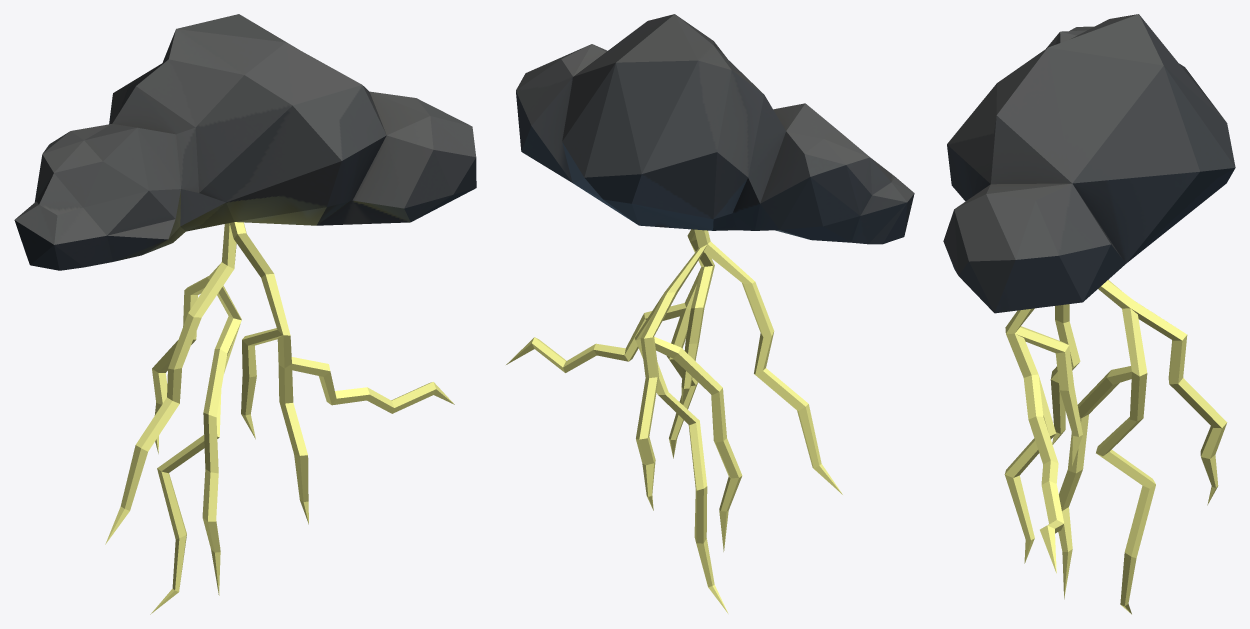
Rendered from Lightning bolt.glb.
The picture shows the model from 3 angles, left to right: view 1: azimuth 30°, elevation 25°; view 2: azimuth 150°, elevation 25°; view 3: azimuth 270°, elevation 25°; orthographic projection. The views are drawn at different scales.
Parts seen in each view (by area): view 1: lightning_bolt; view 2: lightning_bolt; view 3: lightning_bolt.
Part boxes in pixels (left/top/right/bottom): lightning_bolt: left=14, top=14, right=476, bottom=614; lightning_bolt: left=506, top=14, right=914, bottom=613; lightning_bolt: left=943, top=14, right=1235, bottom=614.
Bounding box in the file's own units: 2.29 × 2.93 × 1.26.
1 material, 1 textured.
